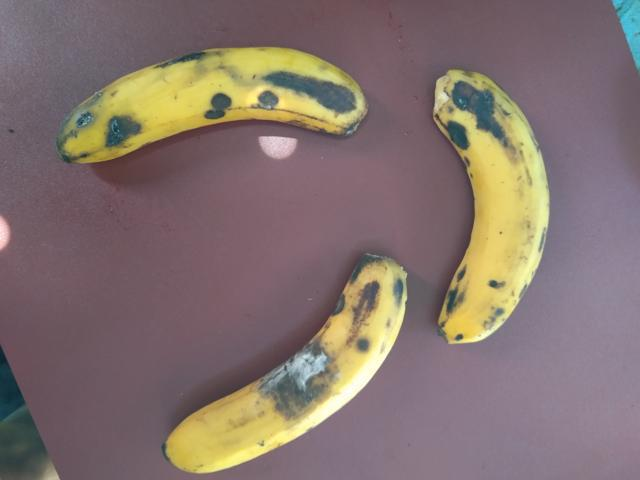overripe: (35, 21, 379, 162), (420, 54, 568, 359)
ripe: (131, 247, 421, 479)
rotten: (250, 323, 355, 444)
